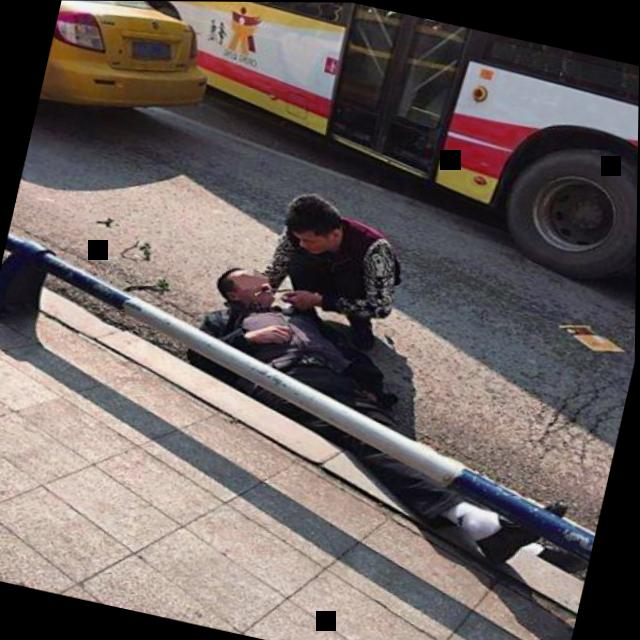Fall-Detected: (163, 242, 446, 448)
